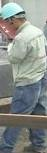boots: (22, 141, 44, 151)
hard-hat: (0, 1, 24, 19)
ppe-suit: (0, 0, 1, 1)
vest: (0, 0, 1, 1)
